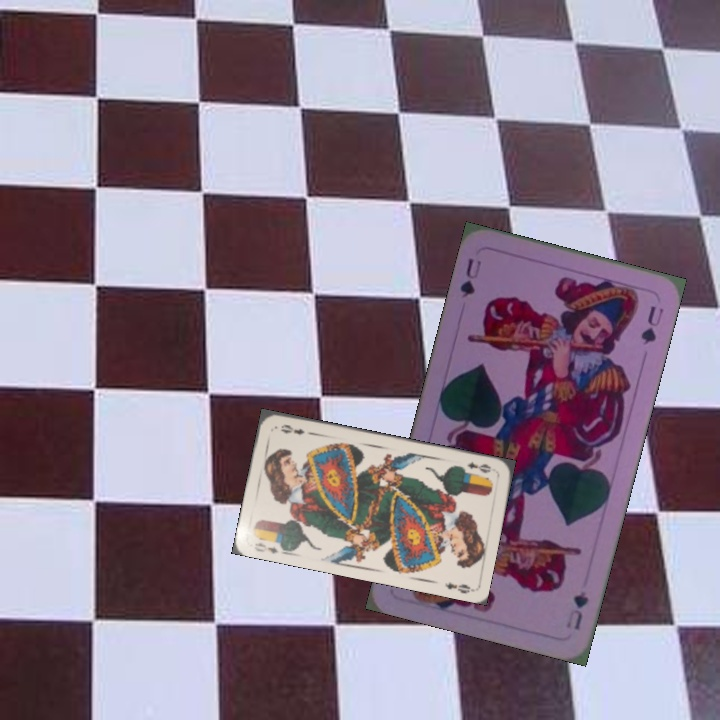EO: (250, 534, 289, 557), (463, 458, 493, 476)
GU: (561, 587, 592, 632), (456, 254, 484, 300)
